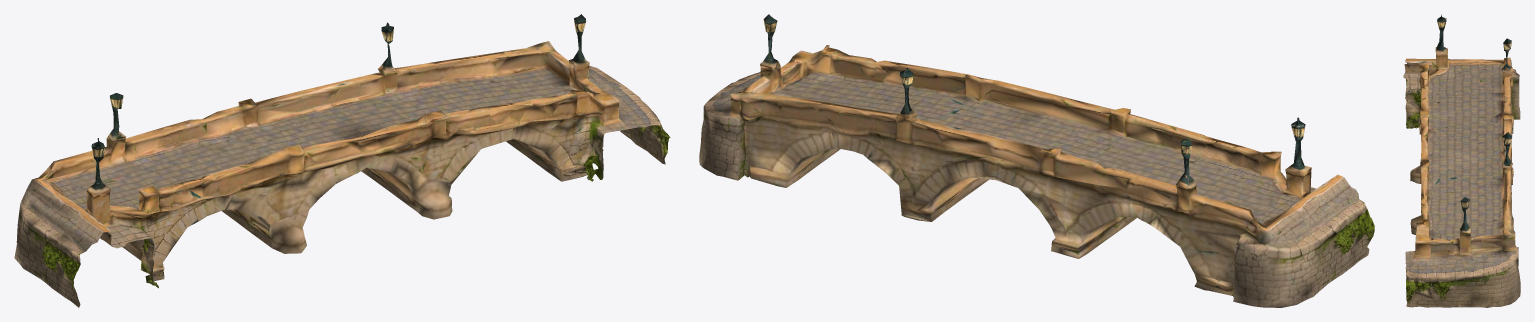
Rendered from m_tb_stonebridge.glb.
3 views of the same model, side by side, from view 1: azimuth 30°, elevation 25°; view 2: azimuth 150°, elevation 25°; view 3: azimuth 270°, elevation 25° (orthographic). The views are drawn at different scales.
Bounding box in the file's own units: 0.9974 × 0.2302 × 0.2325.
Materials: 1 (1 with a texture image).
